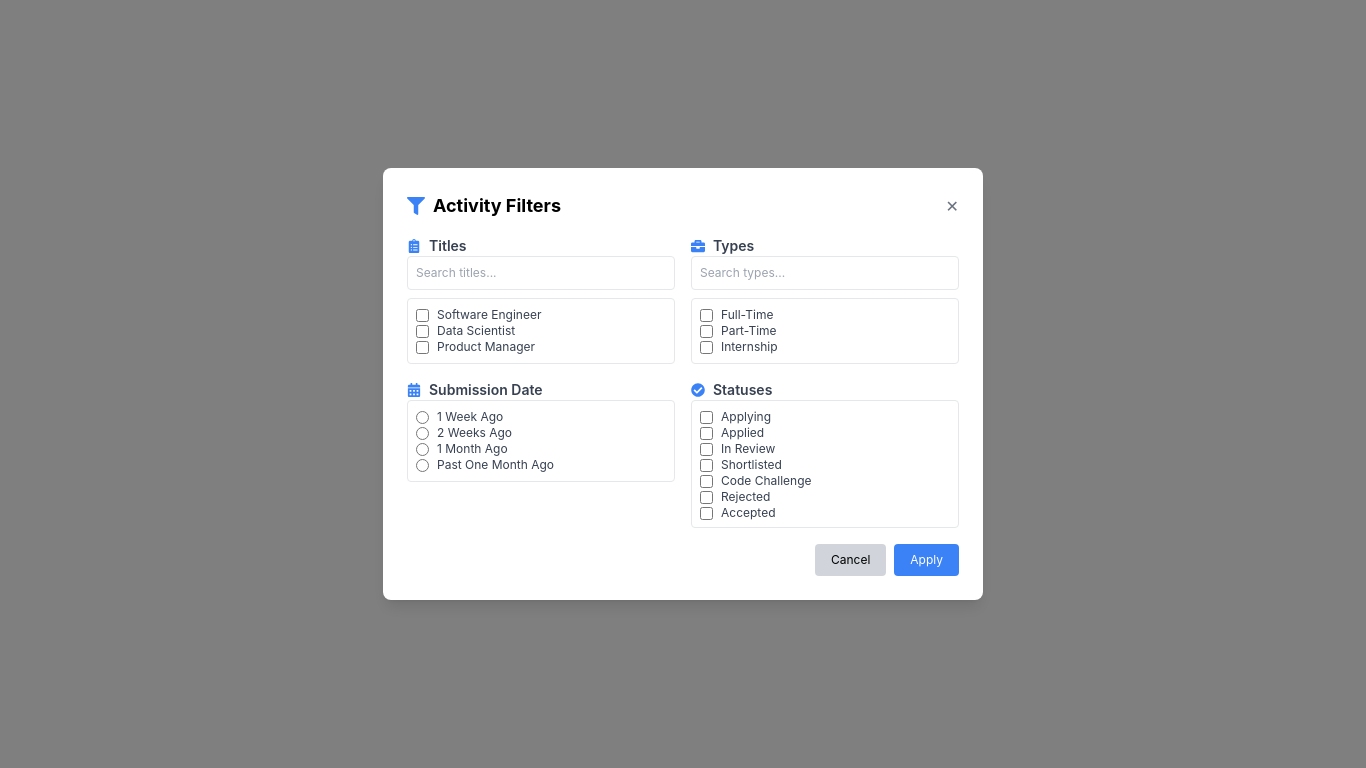
ActivityFilter Component › filters types based on search input
The image size is (1366, 768).
expect the text "Full-Time" is shown: met, box [700,307,773,322]
Type "Full" into the field with placeholder "Search types..." at (825, 273), box [691,256,959,290]
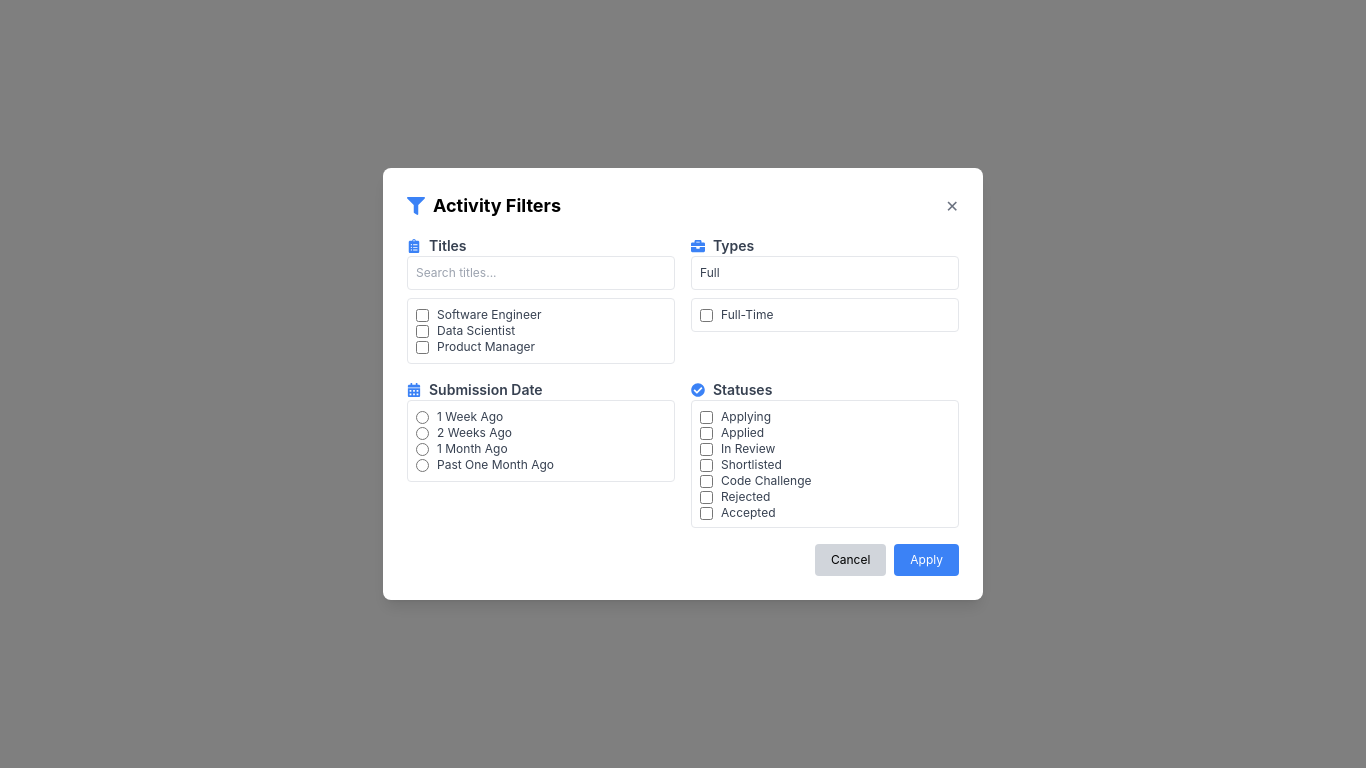
expect the text "Full-Time" is shown: met, box [700,307,773,322]
expect the text "Part-Time" is gone: met
expect the text "Internship" is gone: met
